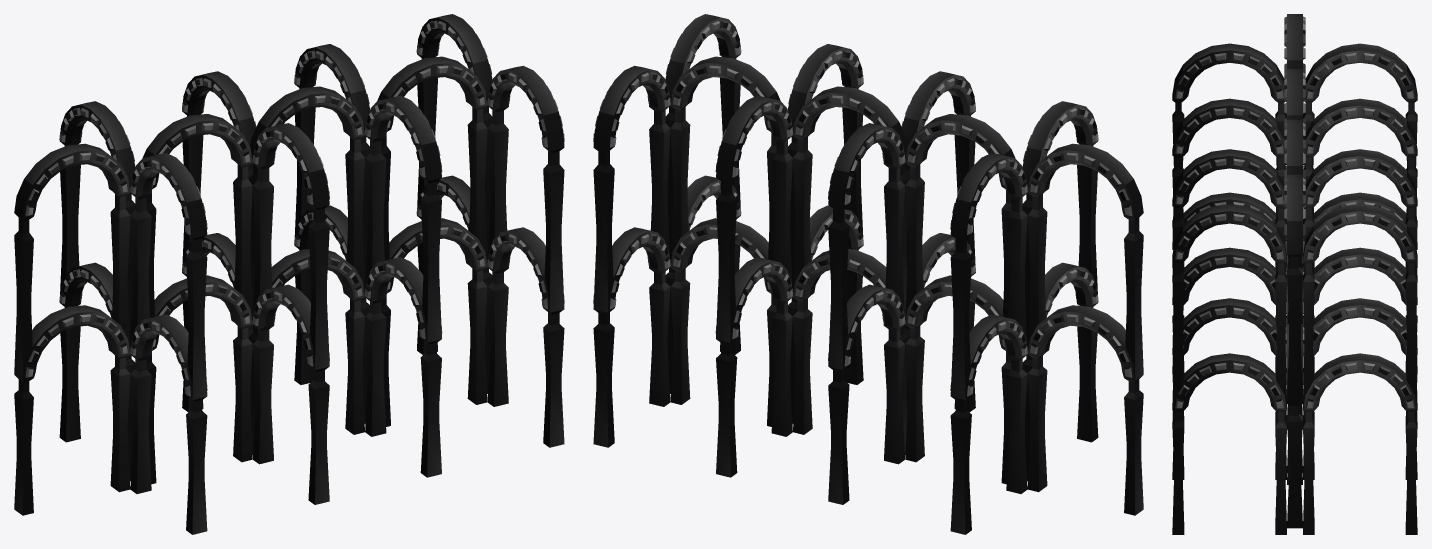
File: Sauelen.fbx
3 renders of one model, left to right at view 1: azimuth 30°, elevation 25°; view 2: azimuth 150°, elevation 25°; view 3: azimuth 270°, elevation 25°, orthographic. The views are drawn at different scales.
Parts seen in each view (by area): view 1: polySurface416; view 2: polySurface416; view 3: polySurface416.
Boxes of the visible parts, bbox=[...] form: polySurface416: bbox=[14, 14, 564, 534]; polySurface416: bbox=[593, 14, 1143, 534]; polySurface416: bbox=[1172, 14, 1417, 534].
Size of the model in its own units: 128 by 89.1 by 61.08.
Materials: 1 (1 with a texture image).
